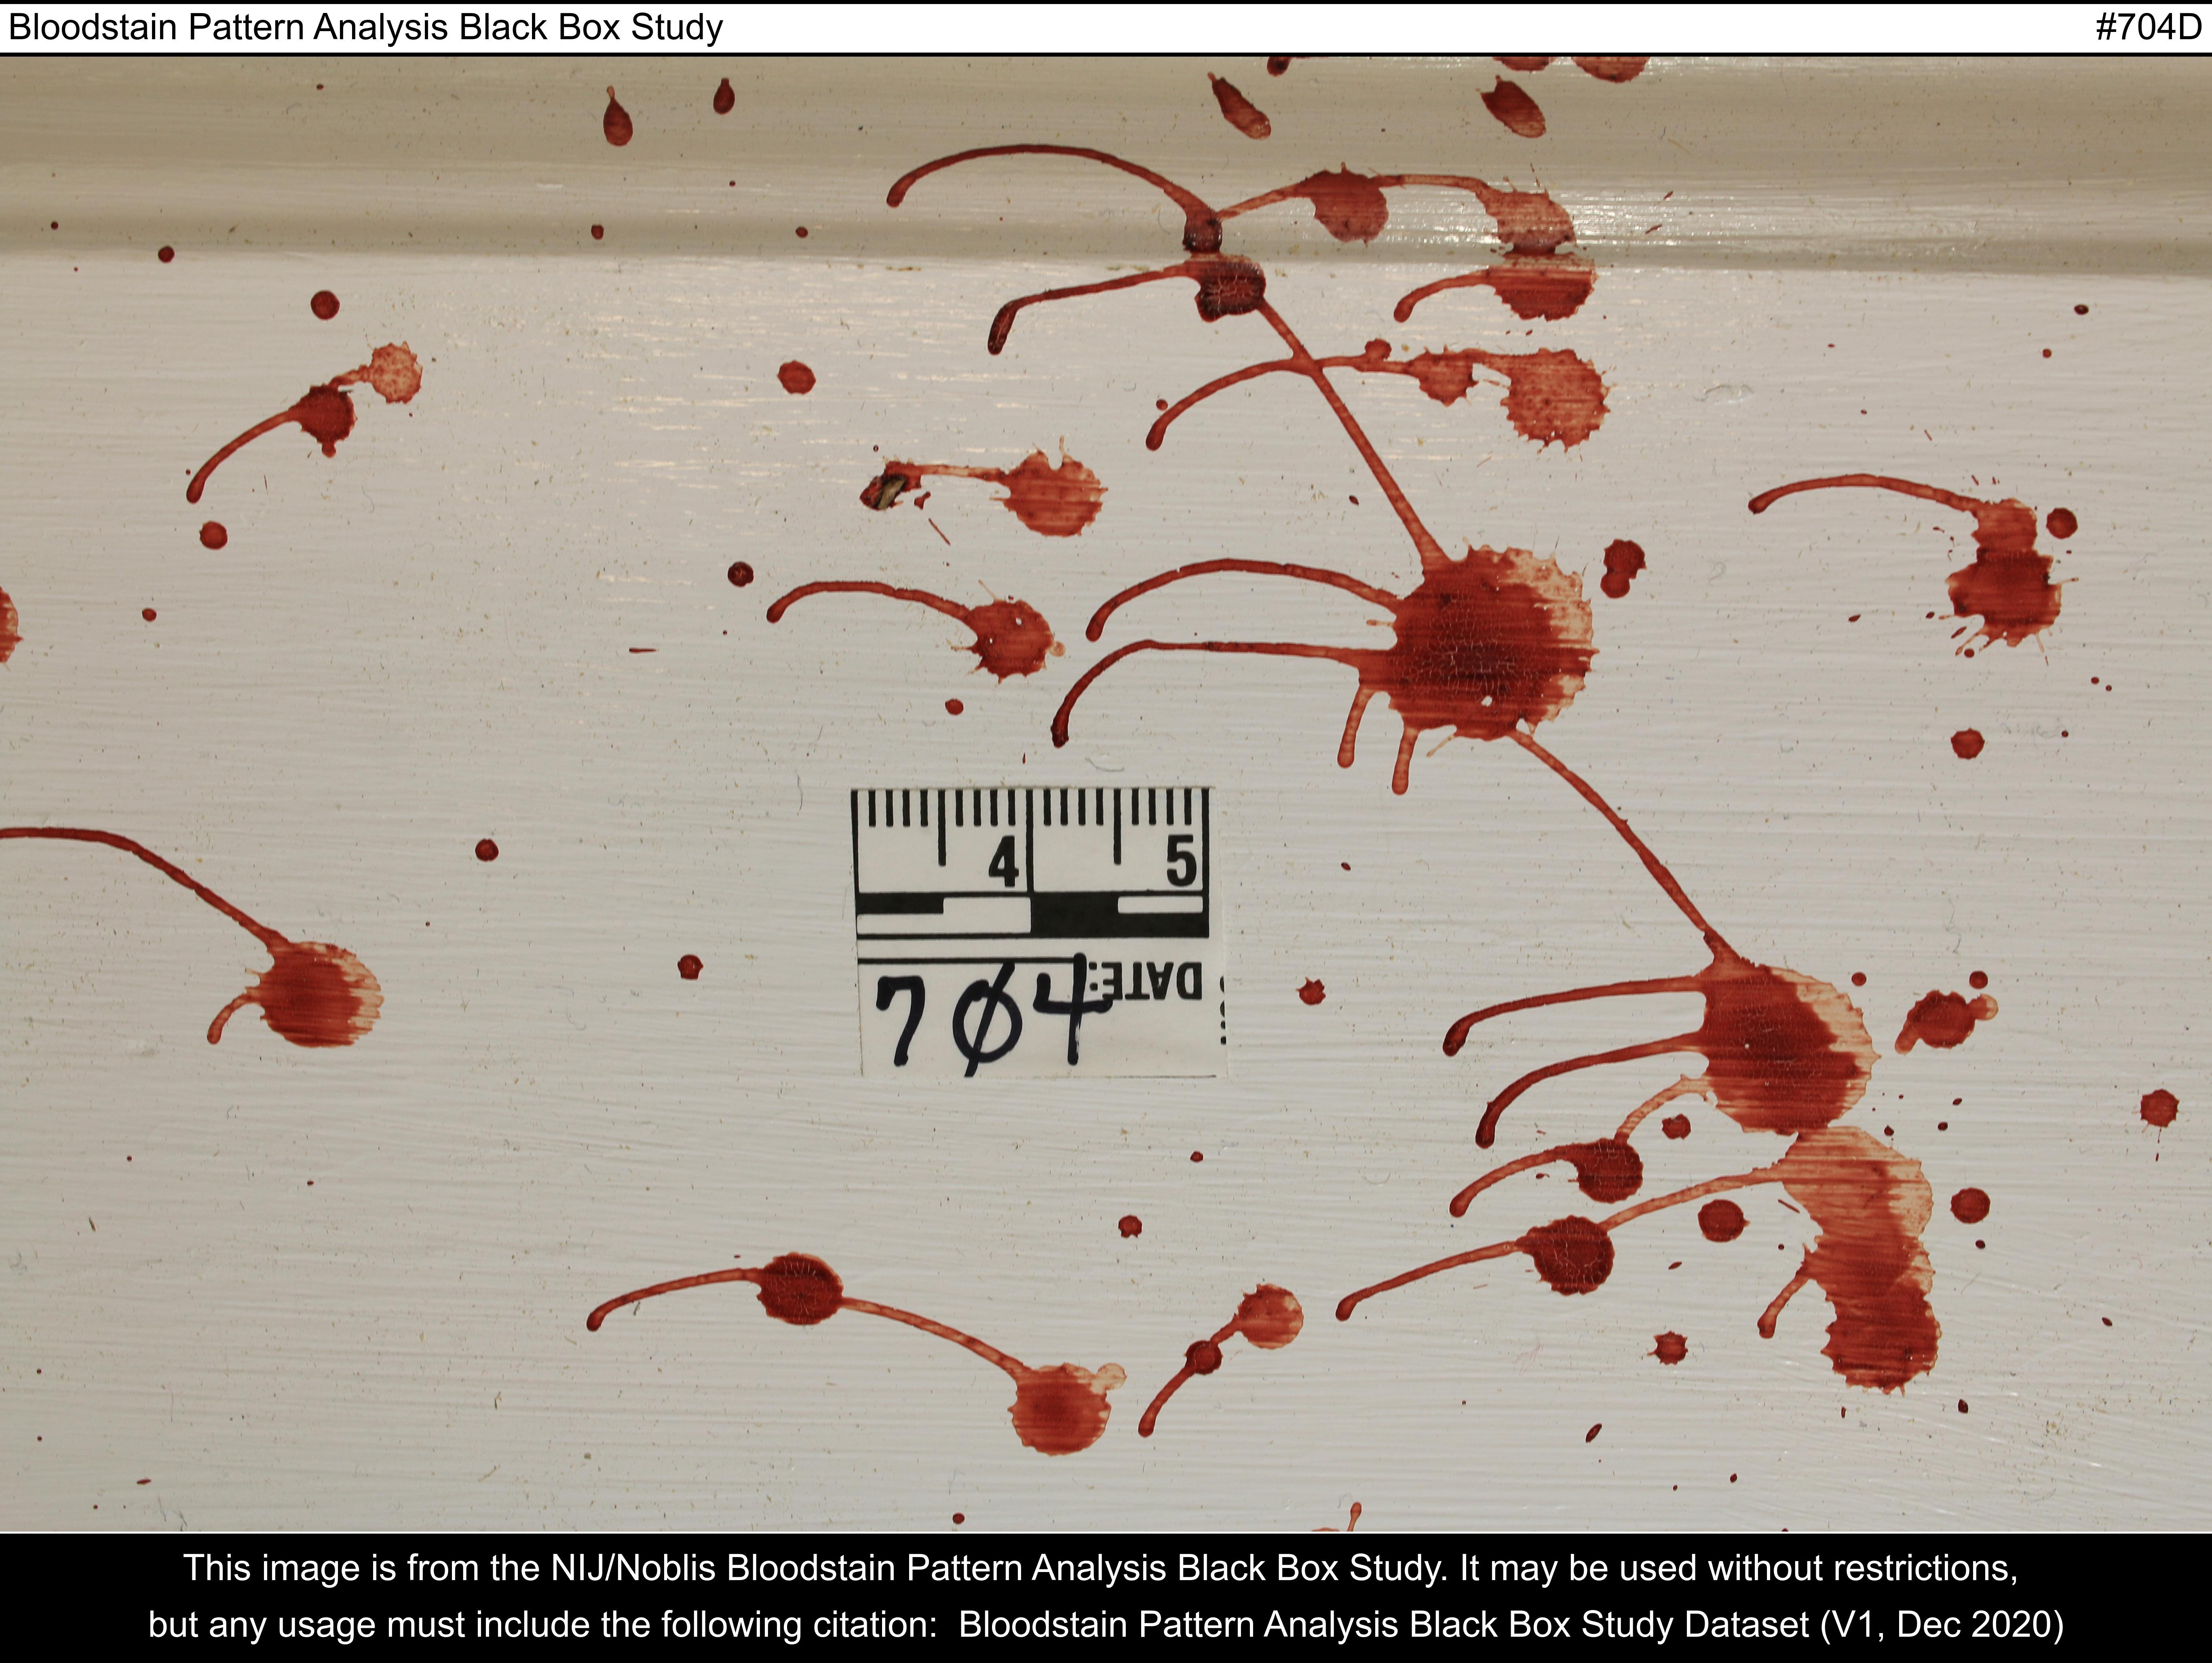Passive: (723, 129, 1810, 772), (1318, 825, 2111, 1397), (611, 1218, 1320, 1487), (0, 788, 452, 1151), (197, 169, 506, 606), (1905, 421, 2135, 646)
